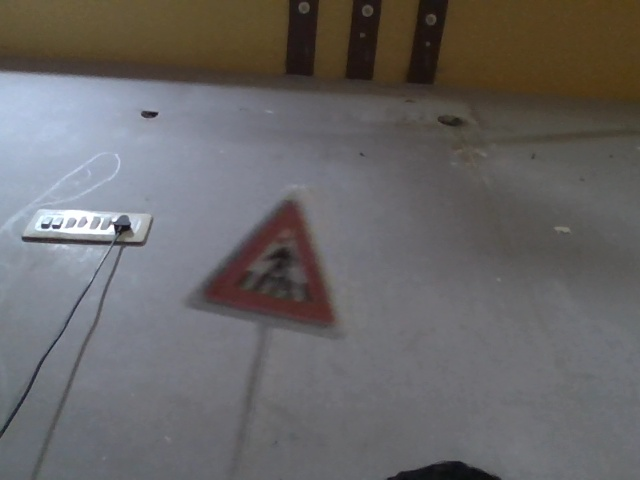crossing: (180, 165, 363, 321)
